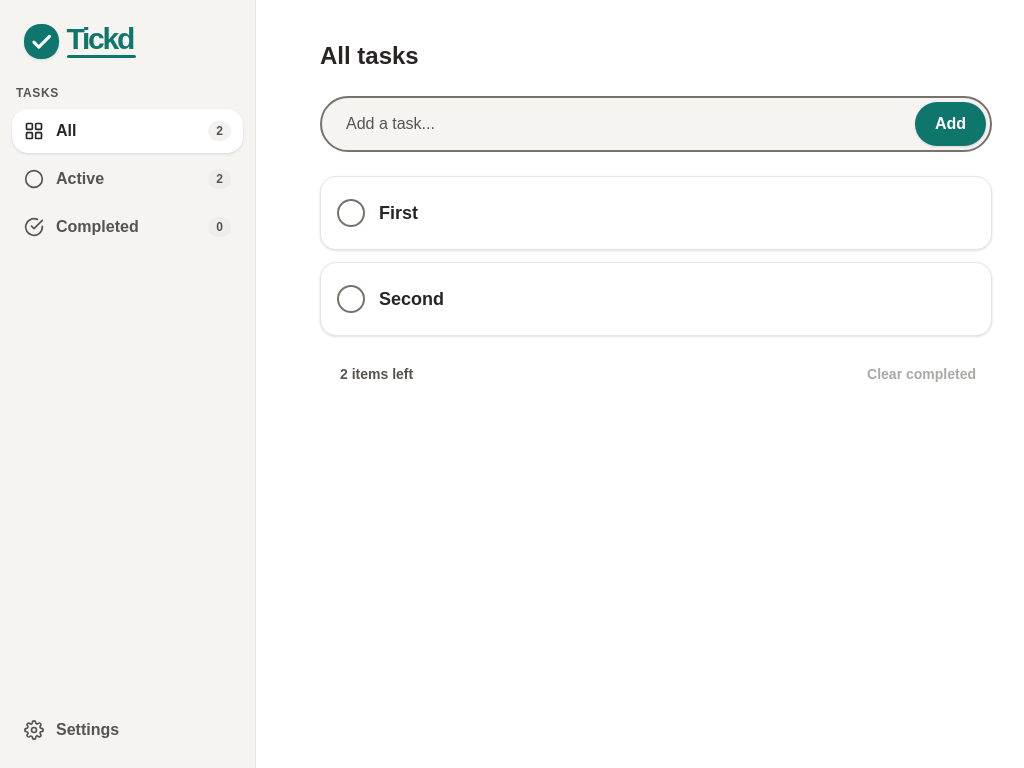
TaskList title editing › edits only one task at a time and discards the other draft
Double-click the button "First" at (399, 213), box 379,191 -> 929,235
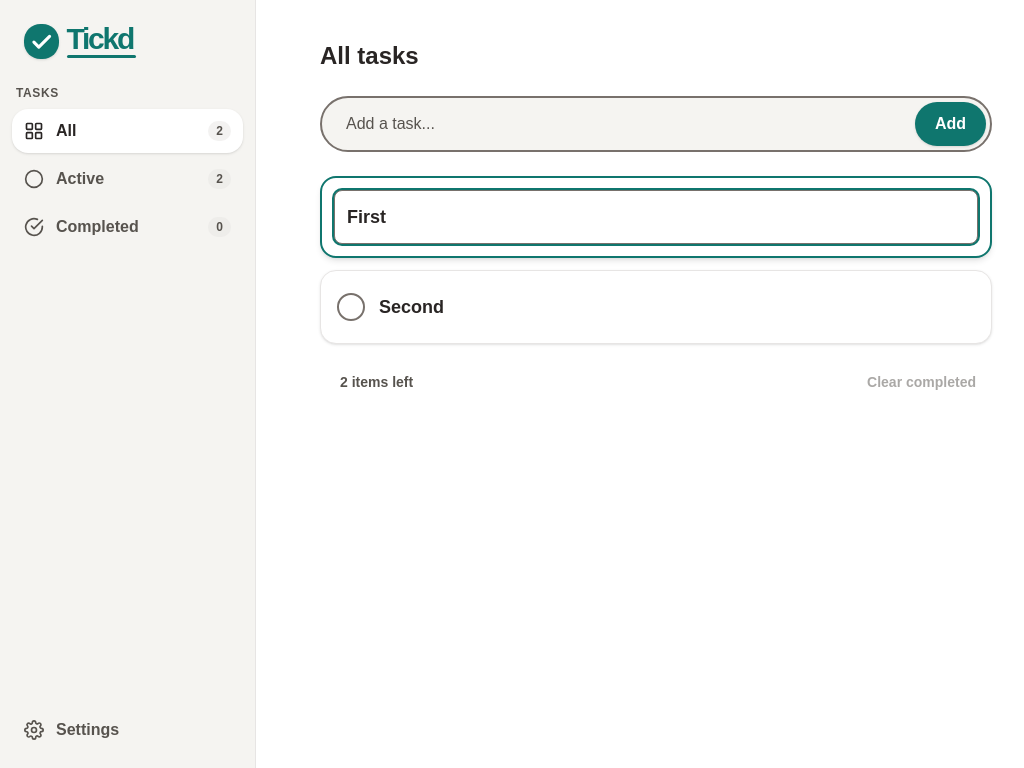
Replace the text in the field named "Edit task" with "Draft" at (656, 217), box 334,190 -> 978,244
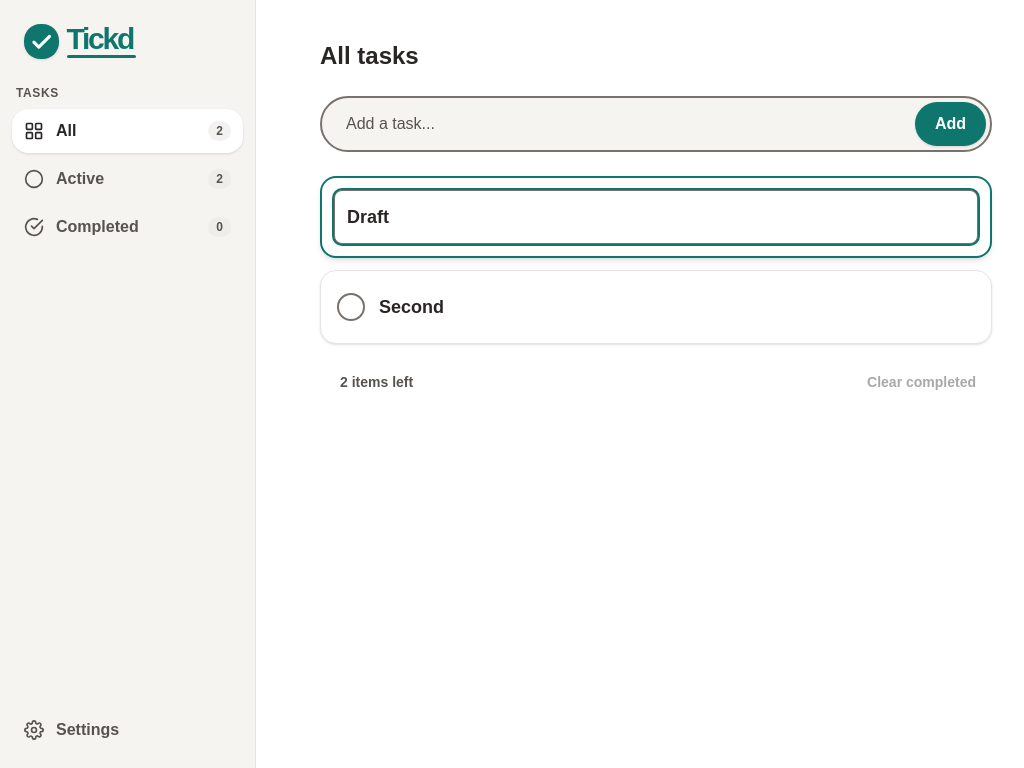
Double-click the button "Second" at (412, 307), box 379,285 -> 929,329
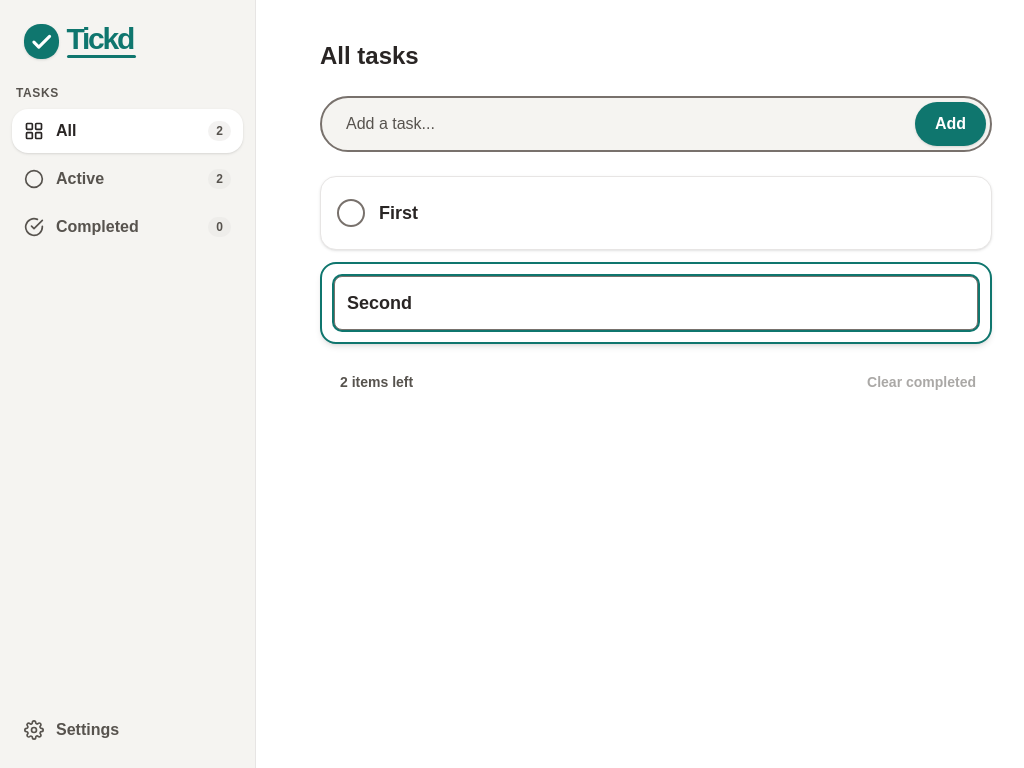
Expected: the number of fields named "Edit task" is 1, 334,276 -> 978,330
Expected: the field named "Edit task" holds "Second", 334,276 -> 978,330
Expected: the button "First" is shown, 379,191 -> 929,235
